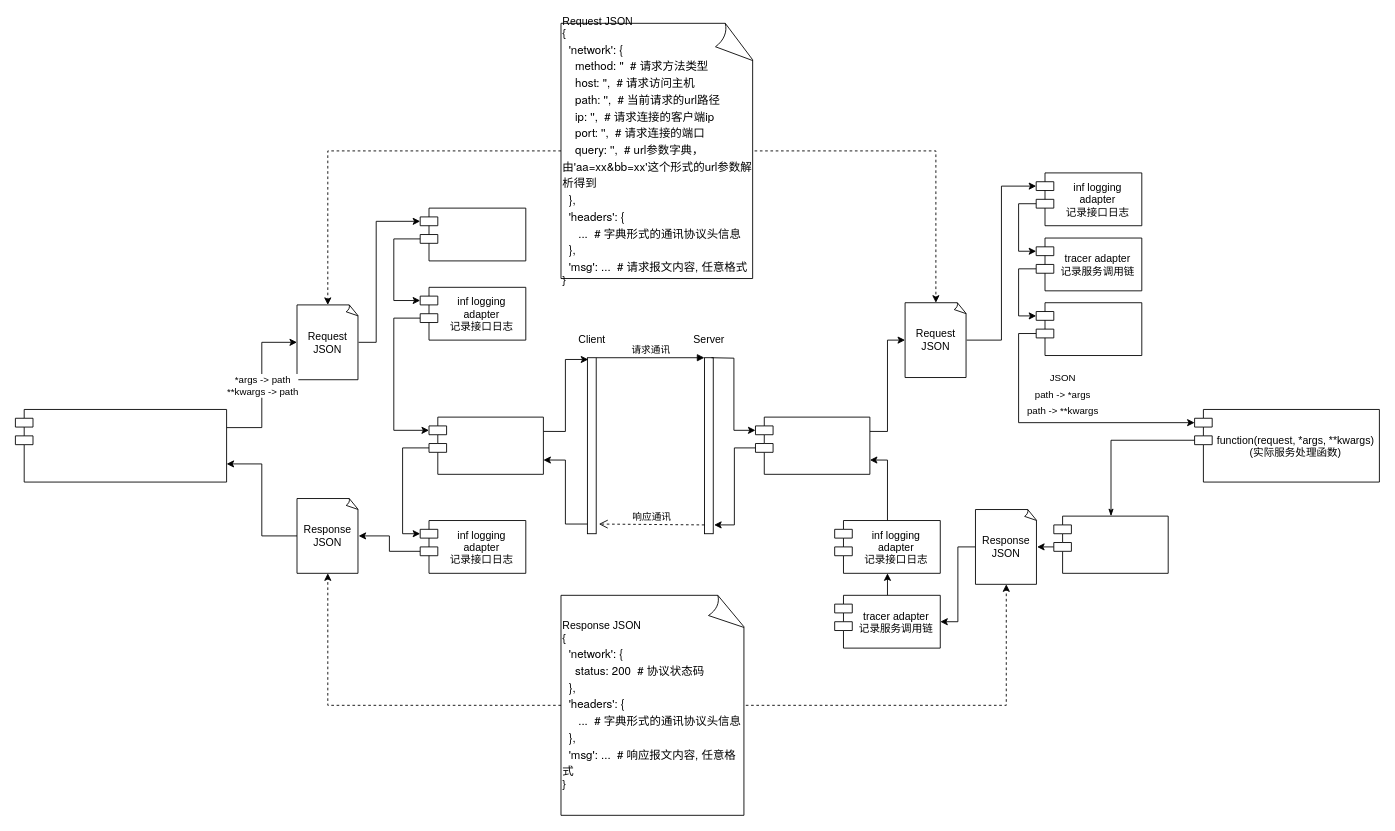
The diagram is 1395 pixels wide and 831 high, and some of its shapes have lost their labels. The centre of each missing label's shape, as x and y in pixels:
"... RemoteCaller.call(json, *args, **kwargs) ... (业务逻辑中的远程调用)" goes at [121,445].
"caller formater adapter 客户端调用转换发送" goes at [485,445].
"inf check adapter 检查接口报文" goes at [1088,329].
"server formater adapter (服务端报文转换 适配器)" goes at [812,445].
"server formater adapter 返回报文的标准转换" goes at [1110,544].
"tracer adapter 传递当前激活Span 的上下文" goes at [472,234].
